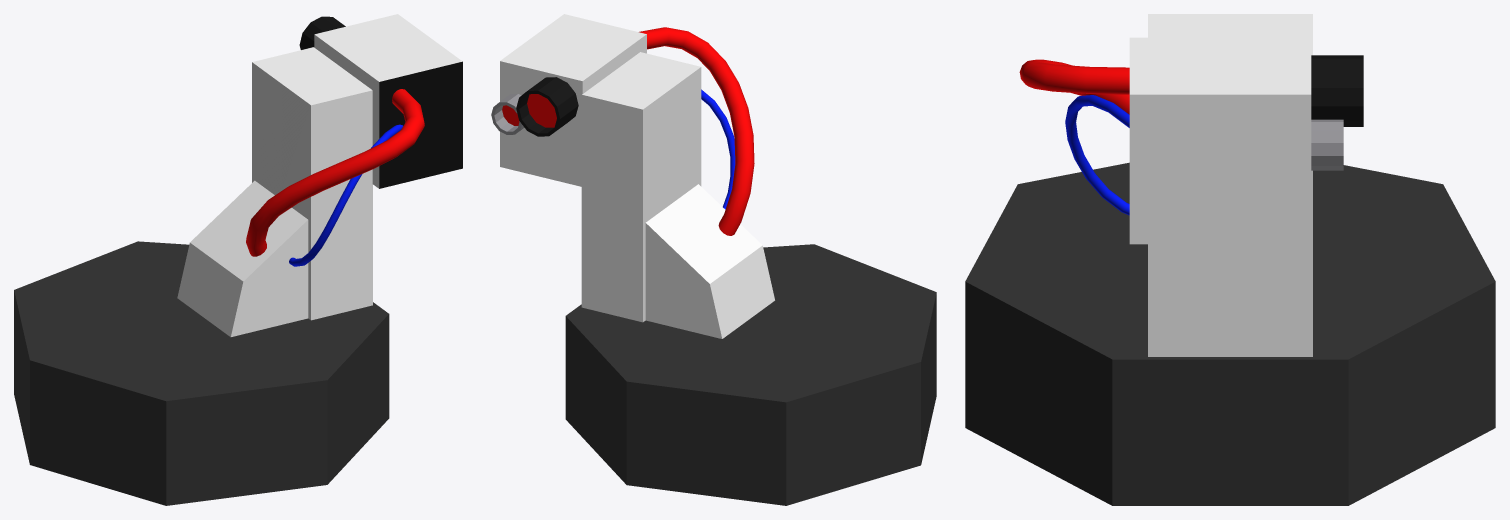
File: Robot_Head.fbx
3 renders of one model, left to right at view 1: azimuth 30°, elevation 25°; view 2: azimuth 150°, elevation 25°; view 3: azimuth 270°, elevation 25°, orthographic. The views are drawn at different scales.
Parts seen in each view (by area): view 1: RobotHead; view 2: RobotHead; view 3: RobotHead.
Boxes of the visible parts, x1=… form: RobotHead: x1=14, y1=14, x2=462, y2=505; RobotHead: x1=491, y1=14, x2=936, y2=505; RobotHead: x1=965, y1=14, x2=1495, y2=505.
Size of the model in its own units: 158 by 126 by 130.
